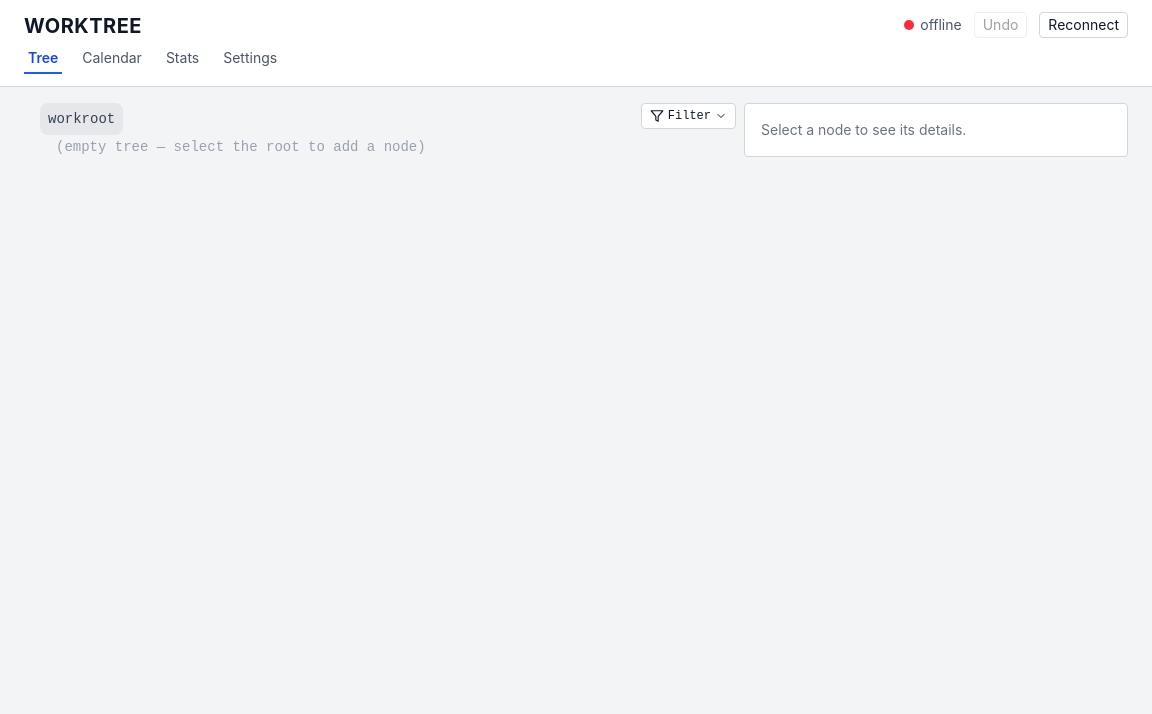
Test case: App auth gate › only the "log in another user" button opens the auth screen while logged in
The image size is (1152, 714).
Click the button "Settings": (250, 61) [219,48,281,74]
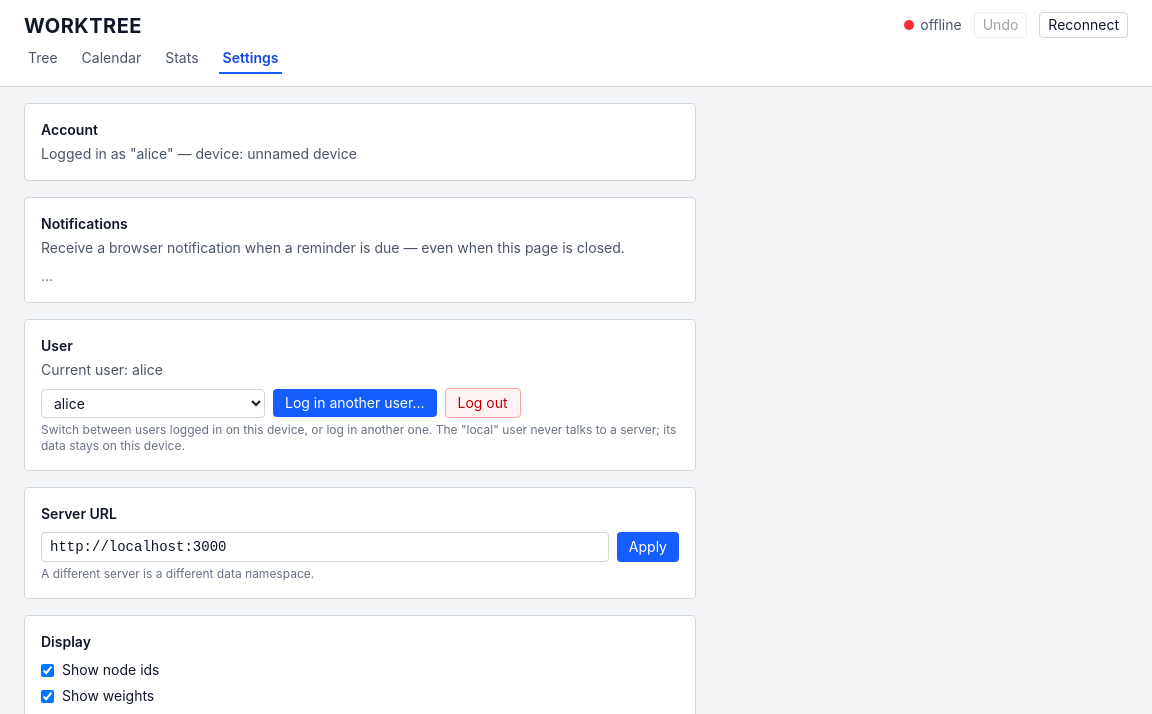
Click the button with test id "settings-login-other": (355, 403) [273,389,436,417]
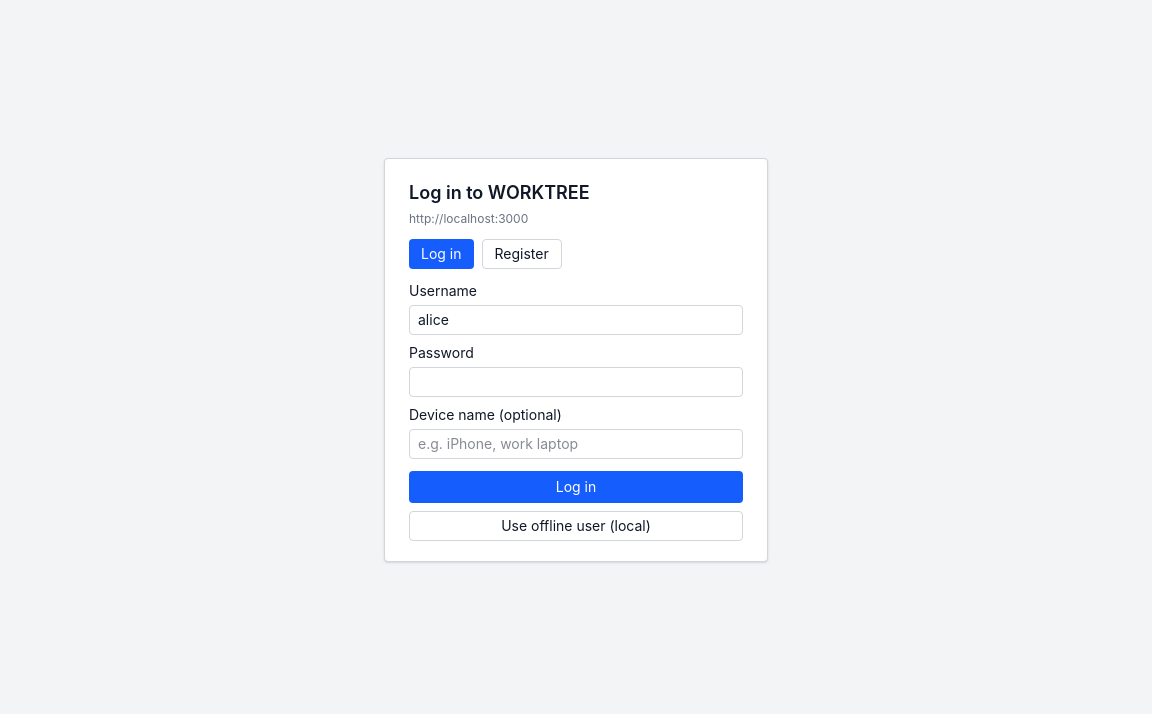
Now the button with test id "auth-submit" is shown, box [409,471,743,503]
Now the field with test id "auth-username" holds "alice", box [409,305,743,335]
